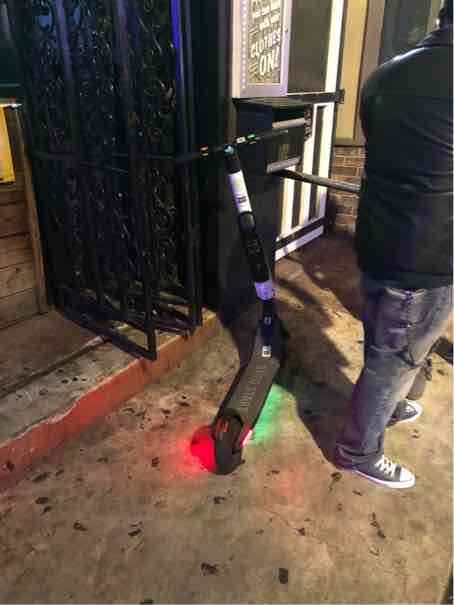scooter: (174, 114, 344, 489)
